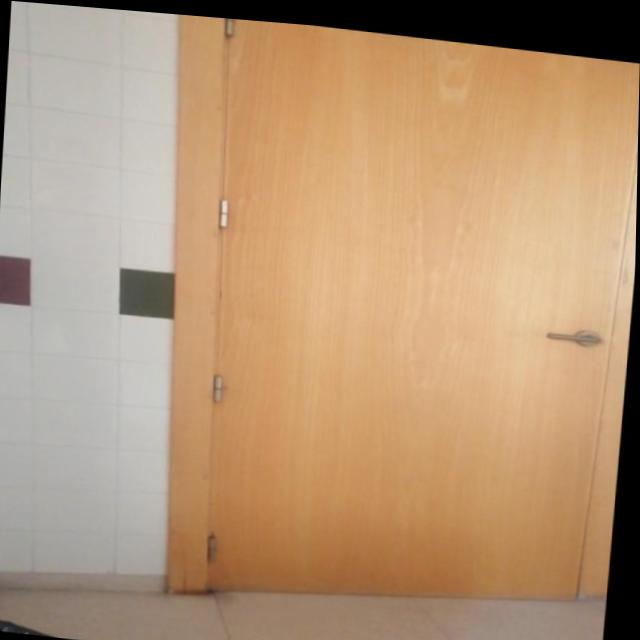door_handle: (543, 321, 609, 336)
